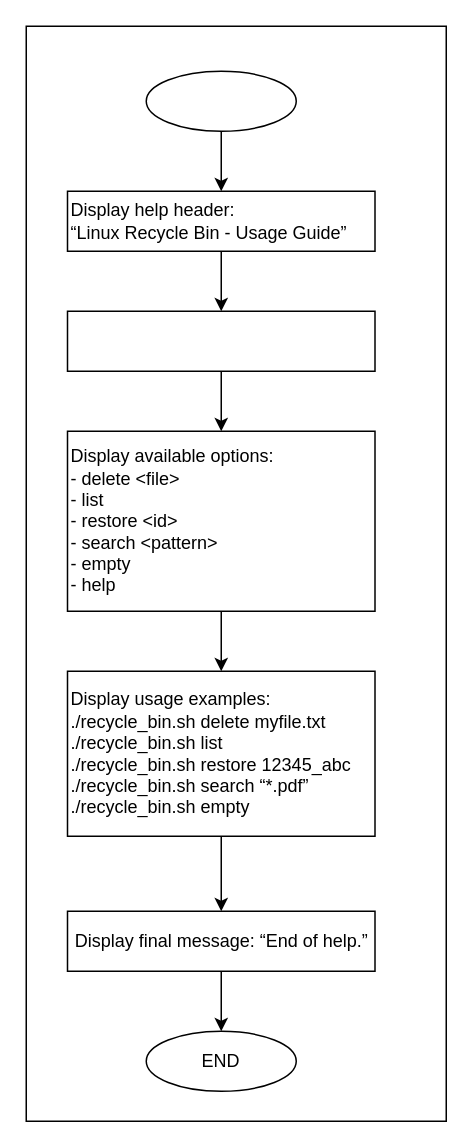
Some shapes in this 473 by 1148 pixel diagram are drawn without their labels. The box of each missing label's shape, as (x1, y1, x2, y2) in pixels:
Display syntax line: “Usage: ./recycle_bin.sh [OPTION] ...”: (66, 310, 375, 371)
START: (145, 70, 296, 131)
